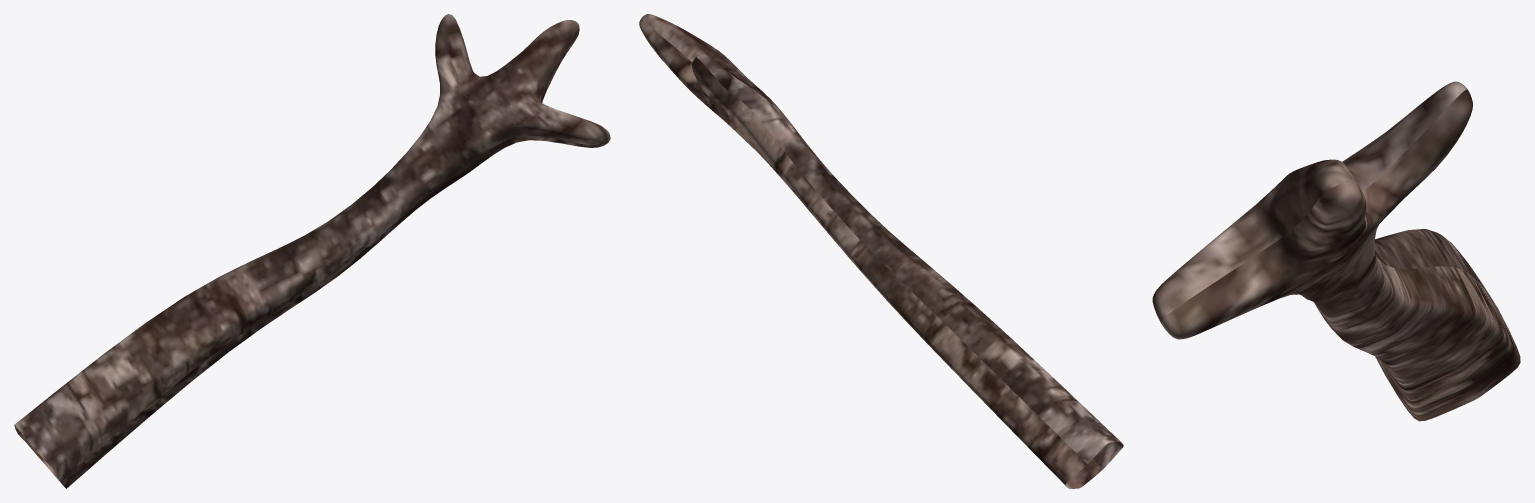
File: ArmRight.obj
3 views of the same model, side by side, from view 1: azimuth 30°, elevation 25°; view 2: azimuth 150°, elevation 25°; view 3: azimuth 270°, elevation 25° (orthographic). The views are drawn at different scales.
Visible parts, largest first — view 1: hands; view 2: hands; view 3: hands.
Boxes of the visible parts, x1,y1,x2,y2 form: hands: (14,14,610,488); hands: (639,14,1123,488); hands: (1152,81,1520,421).
Bounding box in the file's own units: 0.868 × 0.5806 × 0.2768.
1 material, 1 textured.
